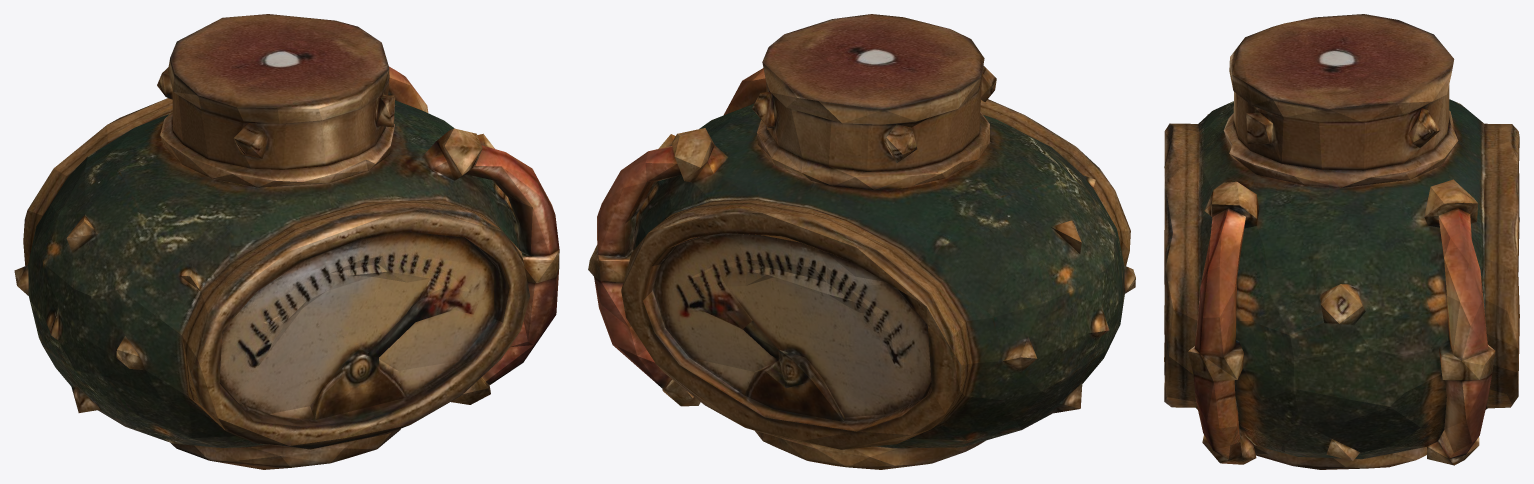
The picture shows the model from 3 angles, left to right: view 1: azimuth 30°, elevation 25°; view 2: azimuth 150°, elevation 25°; view 3: azimuth 270°, elevation 25°; orthographic projection.
Visible parts, largest first — view 1: geometry_0; view 2: geometry_0; view 3: geometry_0.
Boxes of the visible parts, left/top/right/bottom form: geometry_0: left=14, top=14, right=559, bottom=469; geometry_0: left=588, top=14, right=1135, bottom=469; geometry_0: left=1164, top=14, right=1519, bottom=469.
Size of the model in its own units: 1 by 0.8026 by 0.6765.
Materials: 1 (1 with a texture image).
